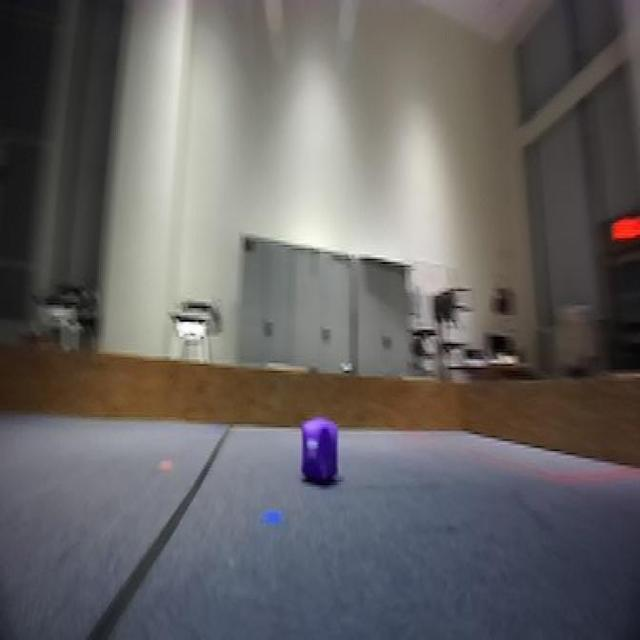frc_cube: (302, 422, 340, 487)
